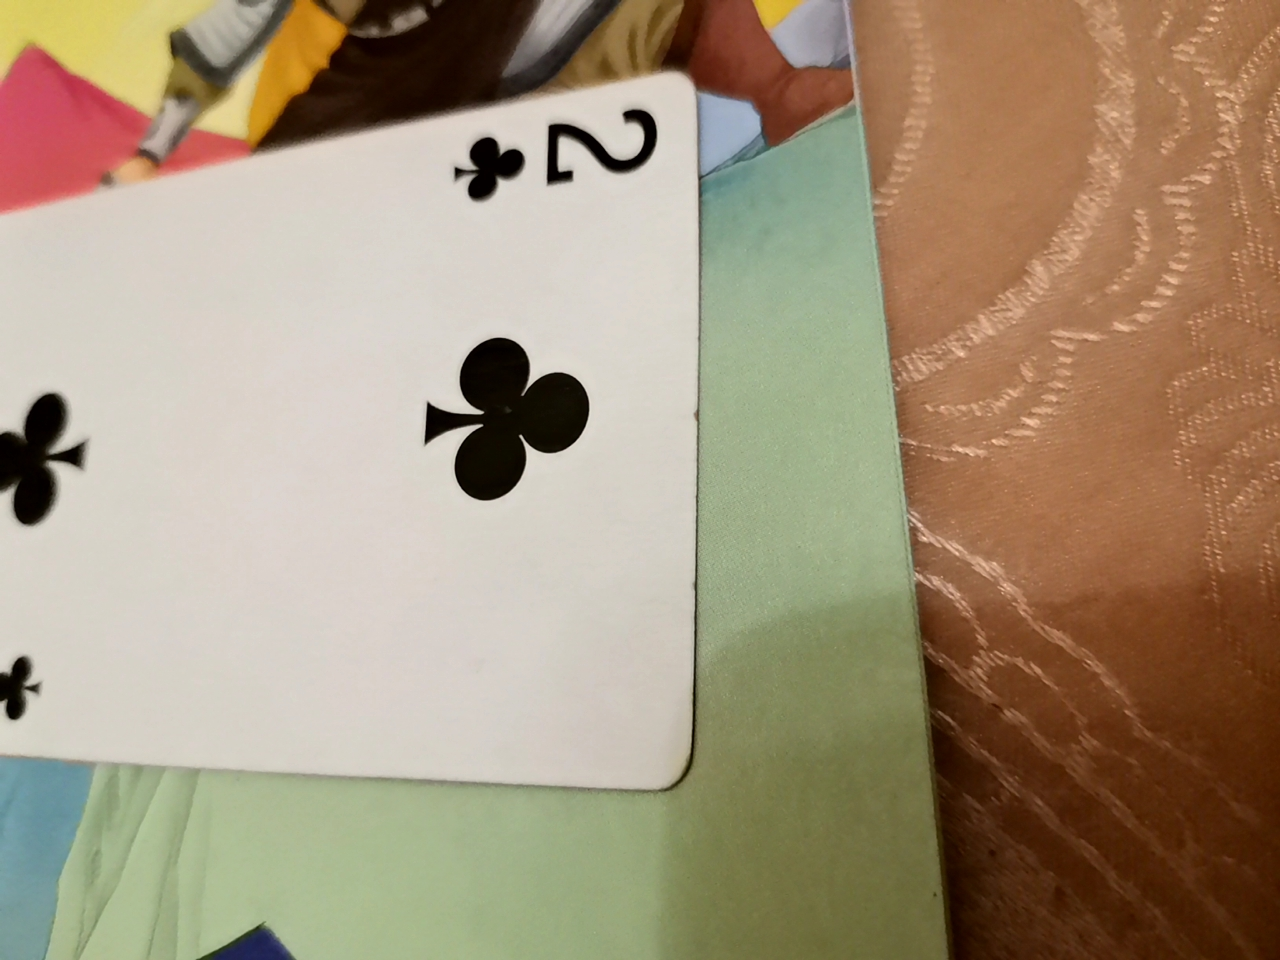mh 2: (0, 101, 759, 797)
